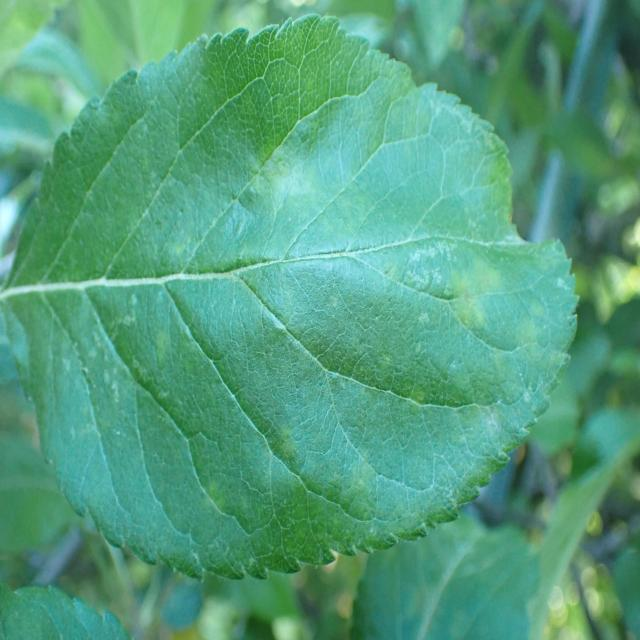scab: (43, 162, 573, 521)
